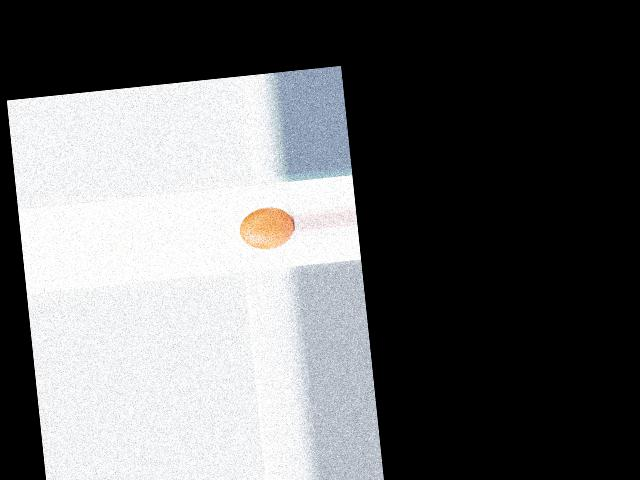egg: (238, 204, 295, 251)
